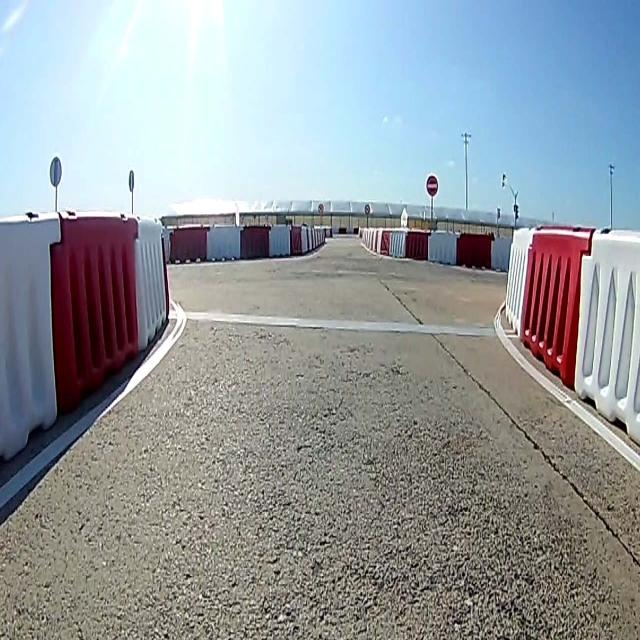girisyok: (425, 170, 439, 196)
